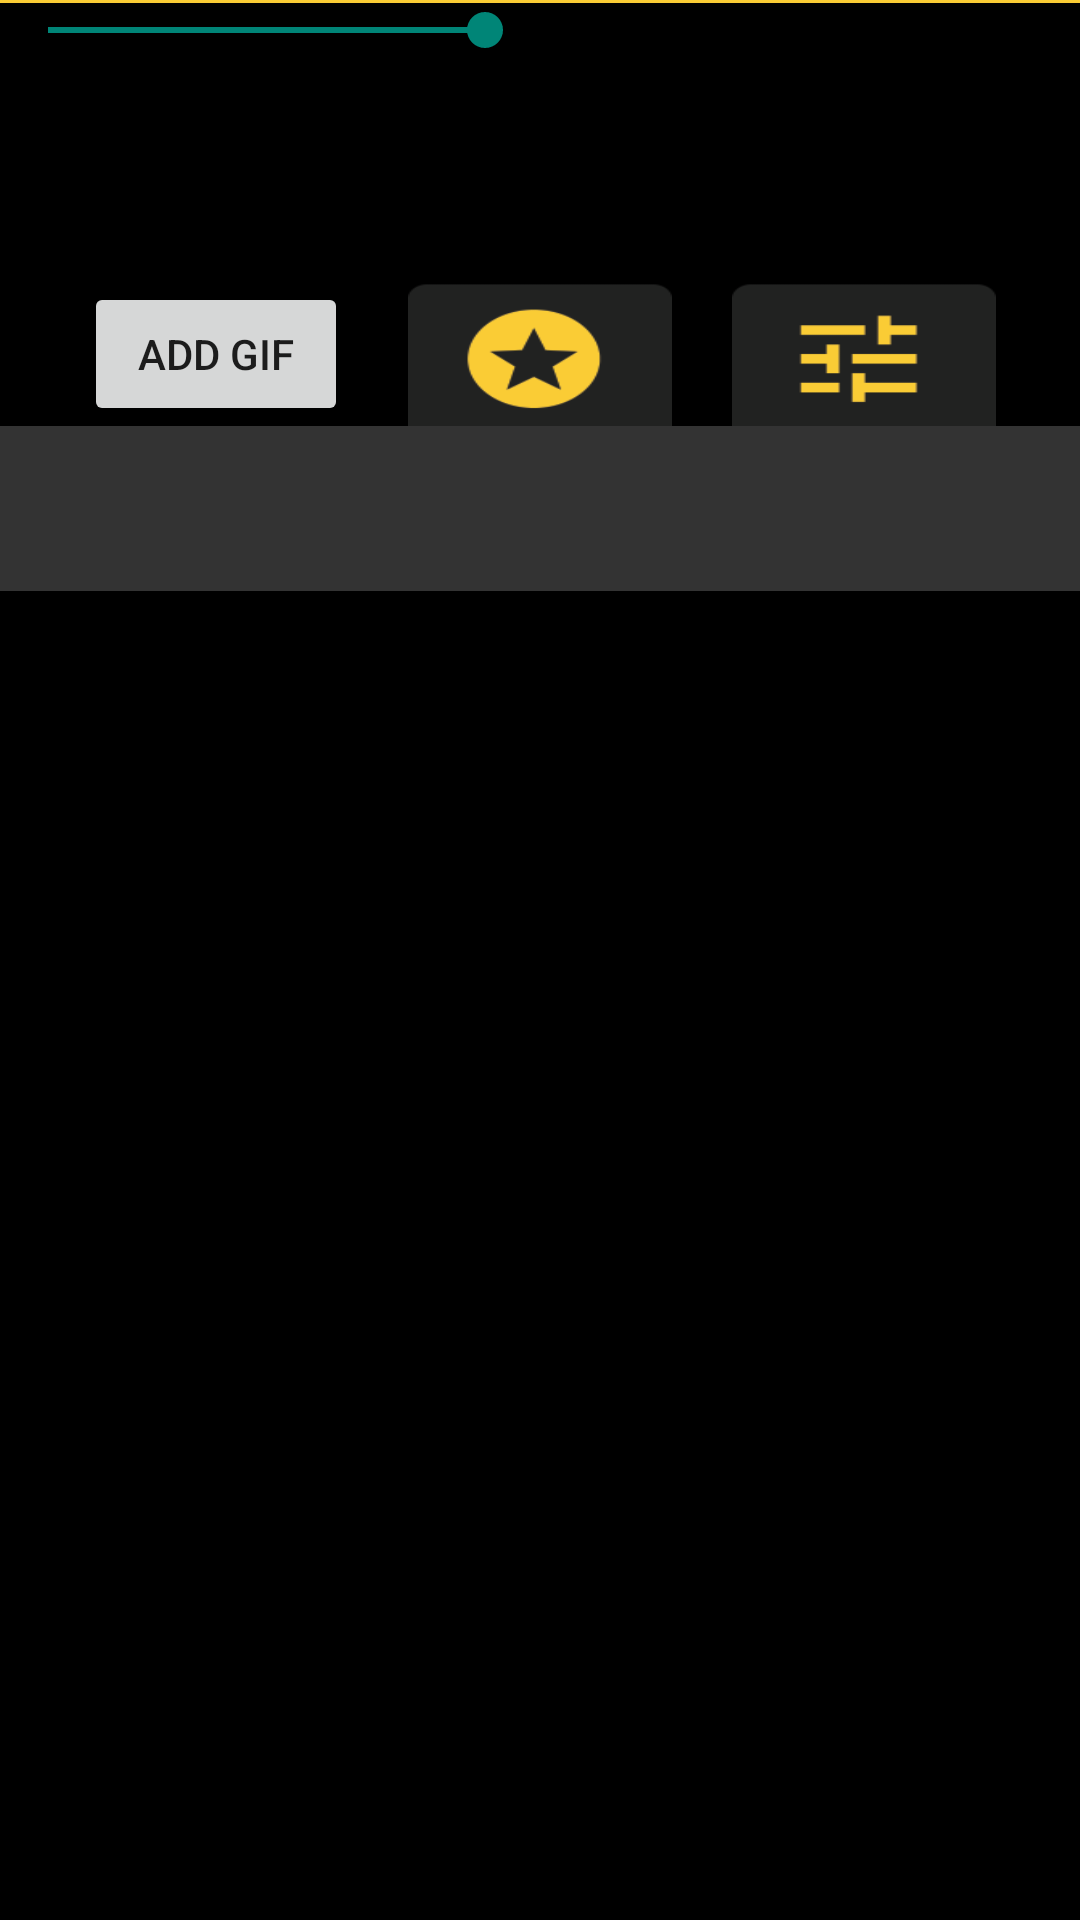

Icon click points for this 1080px×1920px phone screenshot, format [x,y]:
cliparts tab: [540,355]
settings tab: [864,355]
